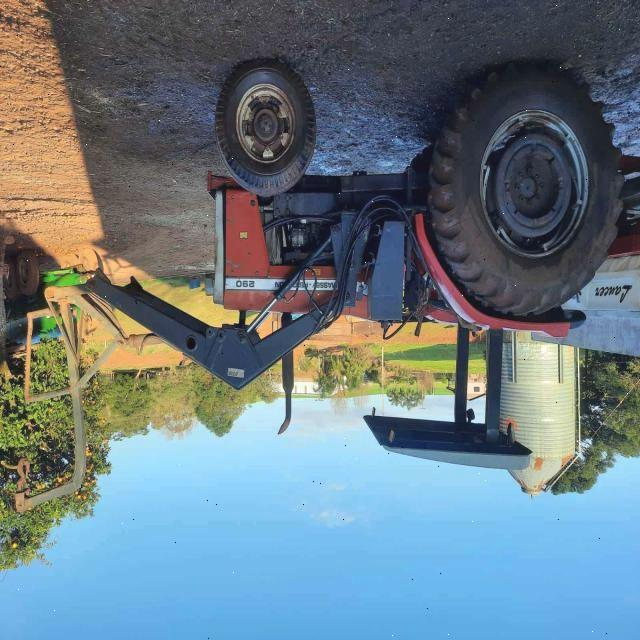Tratores - v5 YOLO V8L 2024-11-13: (210, 61, 626, 474)
